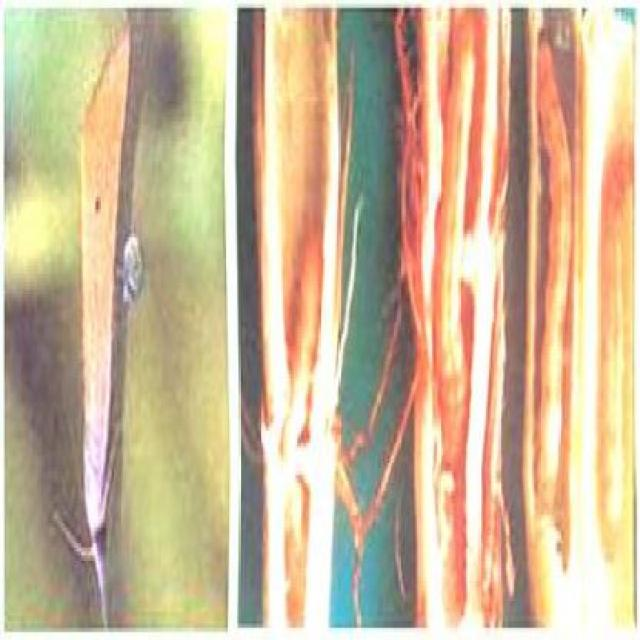stem-borer: (70, 13, 124, 622)
